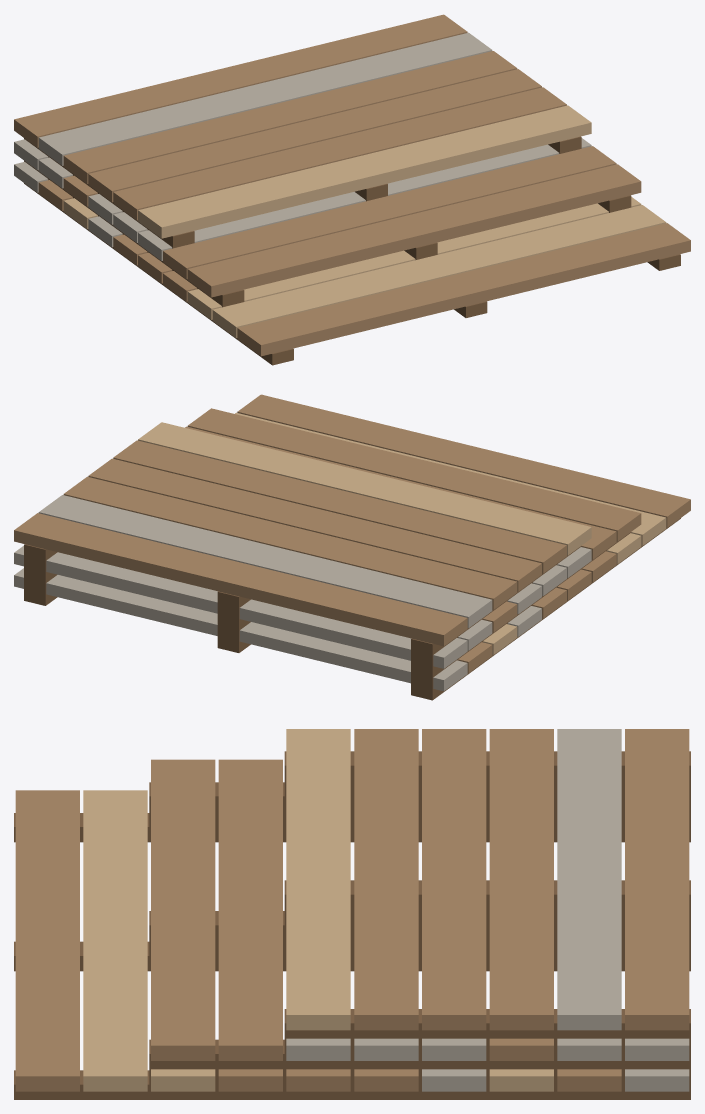
The model's file is SM_Boardwalk_Steps.glb.
The picture shows the model from 3 angles, top to bottom: view 1: azimuth 30°, elevation 25°; view 2: azimuth 150°, elevation 25°; view 3: azimuth 270°, elevation 25°; orthographic projection. The views are drawn at different scales.
Parts seen in each view (by area): view 1: SM_Boardwalk_Steps; view 2: SM_Boardwalk_Steps; view 3: SM_Boardwalk_Steps.
Part boxes in pixels (x1,y1,x2,y2): SM_Boardwalk_Steps: [14, 14, 690, 365]; SM_Boardwalk_Steps: [14, 394, 690, 700]; SM_Boardwalk_Steps: [14, 729, 690, 1099].
Size of the model in its own units: 2 by 0.3 by 2.
